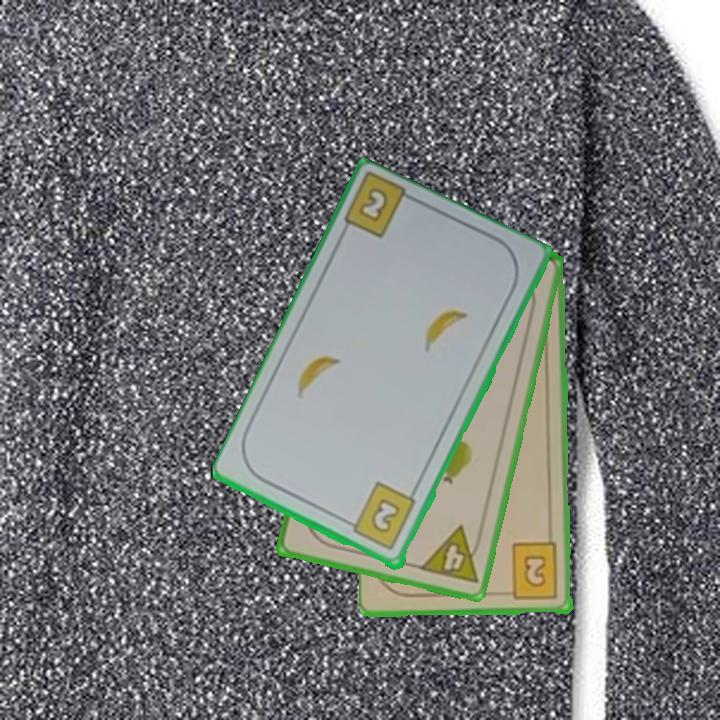2b: (342, 479, 419, 554), (500, 540, 561, 602), (355, 184, 391, 226)
4p: (416, 522, 486, 587)
